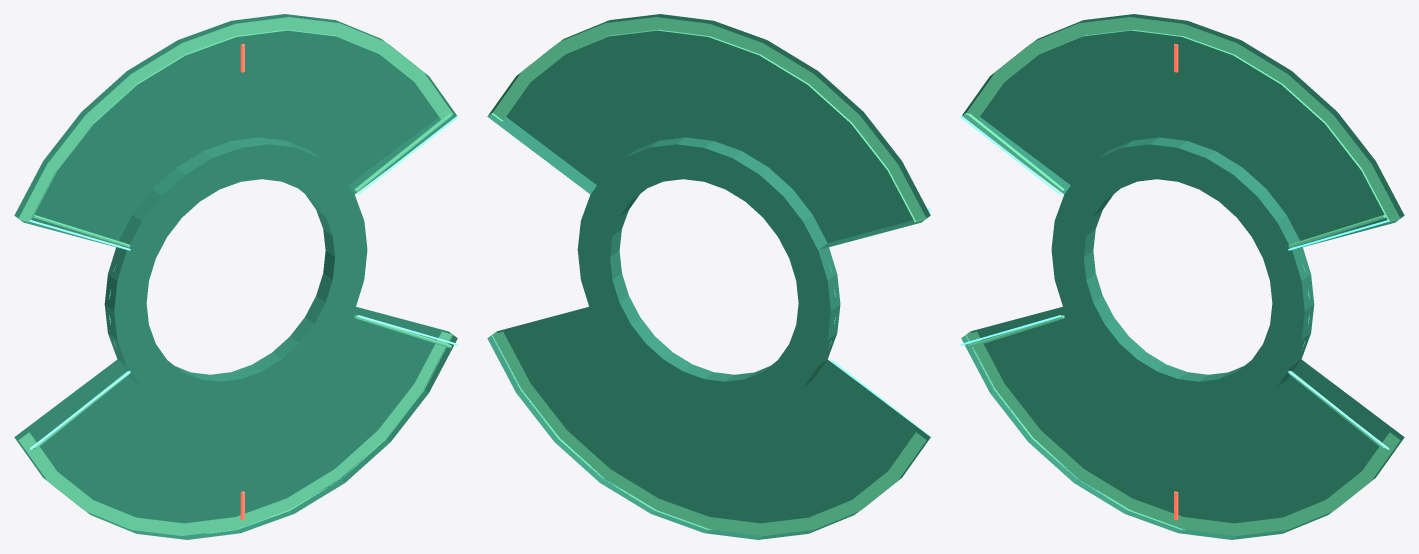
Rendered from bio-panel-fun9-low.glb.
3 renders of one model, left to right at view 1: azimuth 30°, elevation 25°; view 2: azimuth 150°, elevation 25°; view 3: azimuth 330°, elevation 25°, orthographic.
Parts seen in each view (by area): view 1: RENDER_PANEL_SHELL, RENDER_PANEL_FRAME, RENDER_PANEL_SIGNAL; view 2: RENDER_PANEL_SHELL, RENDER_PANEL_FRAME; view 3: RENDER_PANEL_SHELL, RENDER_PANEL_FRAME, RENDER_PANEL_SIGNAL.
Boxes of the visible parts, x1,y1,x2,y2 form: RENDER_PANEL_SHELL: (14,14,457,539); RENDER_PANEL_FRAME: (18,17,453,535); RENDER_PANEL_SIGNAL: (29,115,458,449); RENDER_PANEL_SHELL: (487,14,930,539); RENDER_PANEL_FRAME: (491,17,926,535); RENDER_PANEL_SHELL: (961,14,1404,539); RENDER_PANEL_FRAME: (965,17,1400,535); RENDER_PANEL_SIGNAL: (960,115,1389,449).
Size of what is drawn, in the model's own units: 36.85 by 41 by 1.95.
